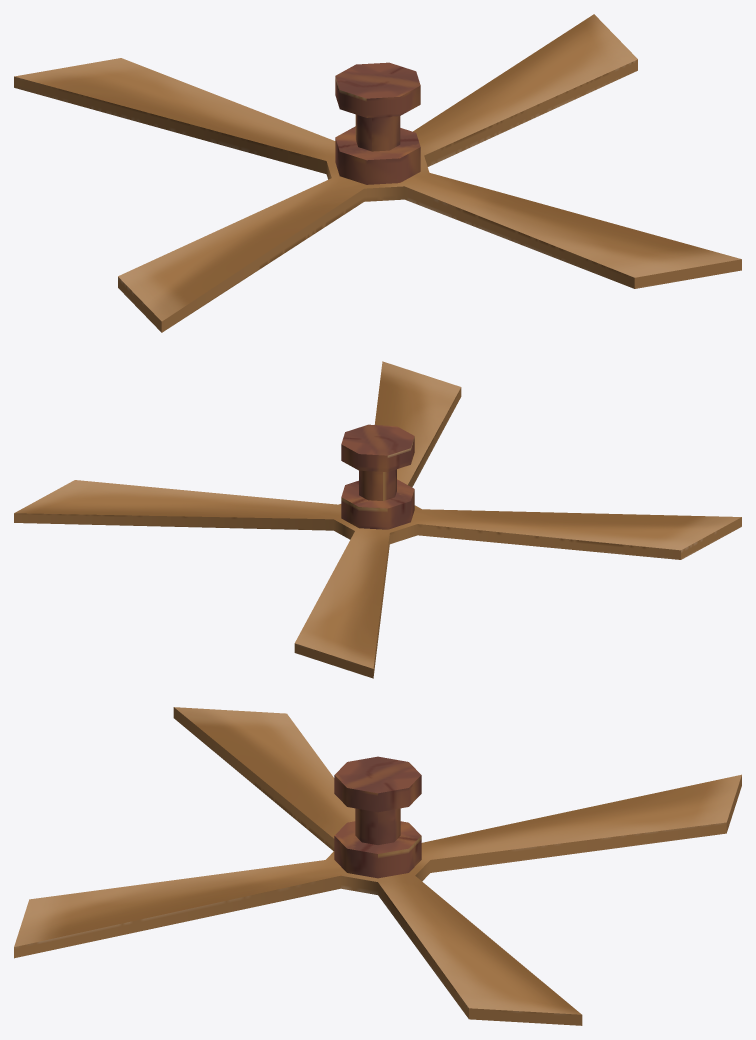
File: platform_propeller.fbx
3 views of the same model, one above another, from view 1: azimuth 30°, elevation 25°; view 2: azimuth 150°, elevation 25°; view 3: azimuth 270°, elevation 25° (orthographic). The views are drawn at different scales.
Visible parts, largest first — view 1: platform_propeller; view 2: platform_propeller; view 3: platform_propeller.
Part boxes in pixels (<box>): platform_propeller: <box>14,14,741,332</box>; platform_propeller: <box>14,361,741,678</box>; platform_propeller: <box>14,707,741,1025</box>.
Size of the model in its own units: 771 by 125 by 771.
